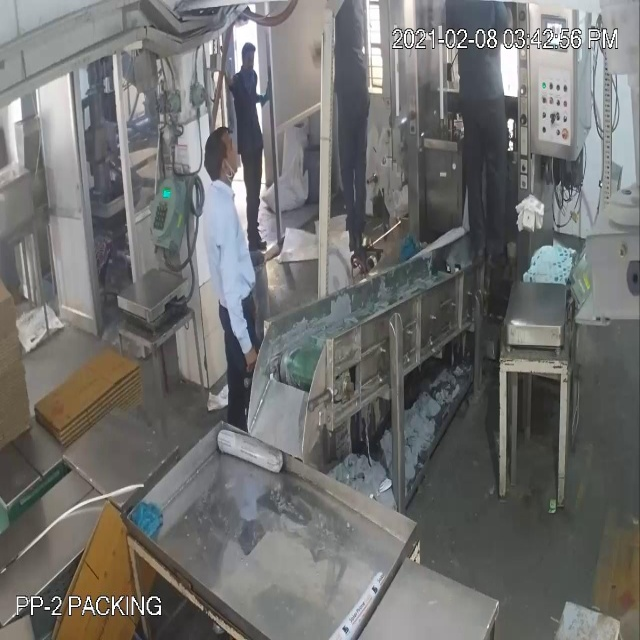Sin_guantes: (210, 200, 262, 381)
